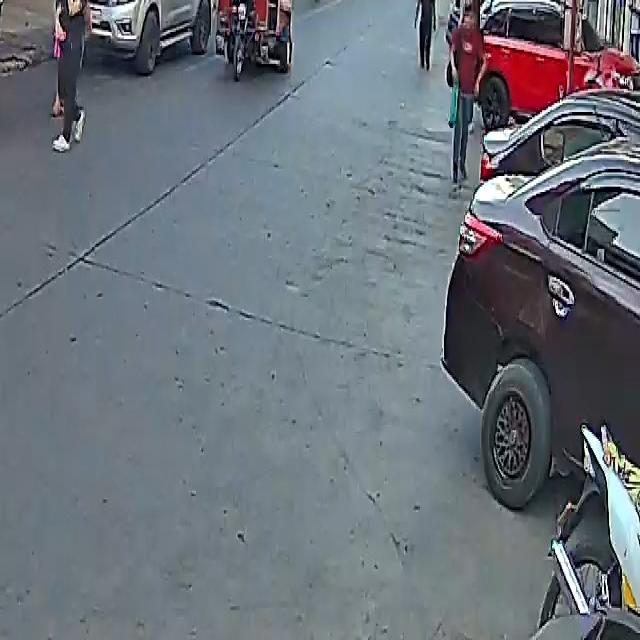car: (444, 64, 640, 536), (455, 0, 637, 126), (75, 0, 216, 73)
